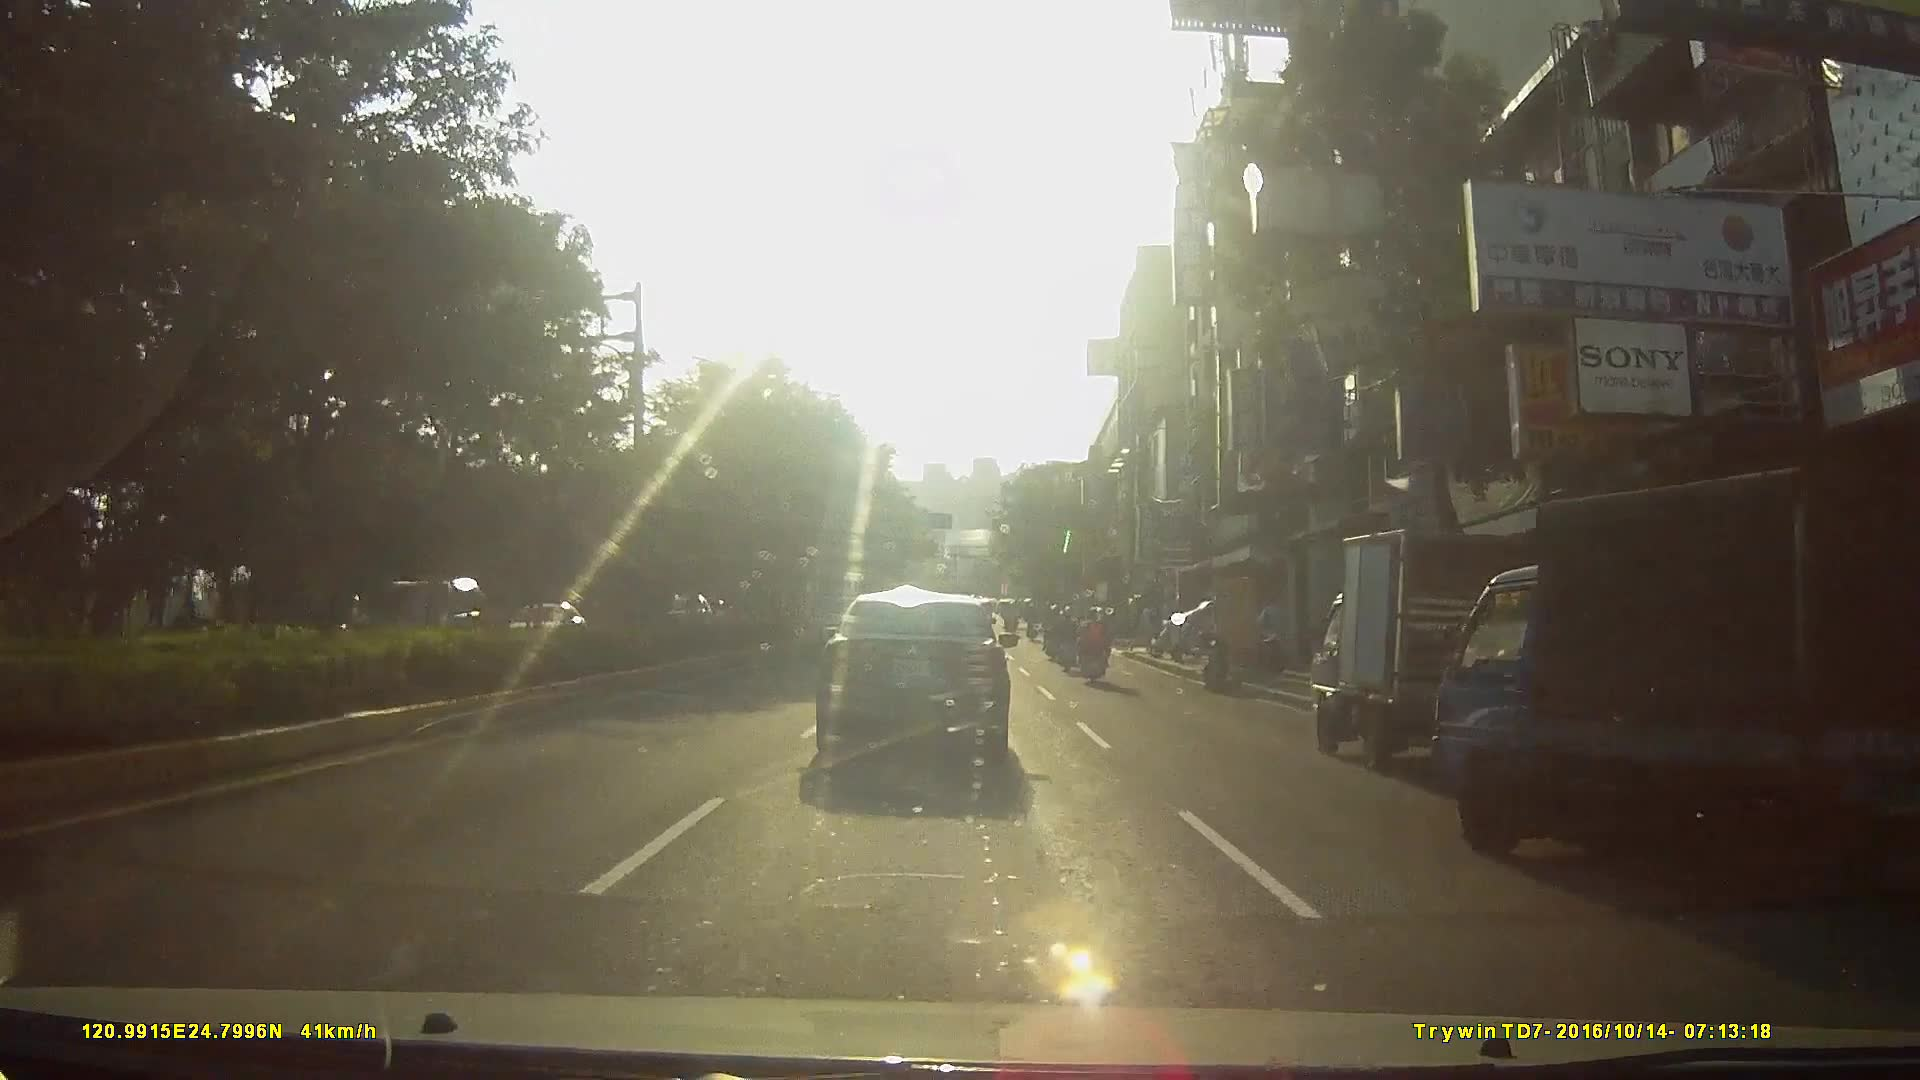rider: (1074, 606, 1115, 685), (1053, 605, 1081, 675), (1044, 606, 1064, 663)
vehicle: (1421, 457, 1920, 918), (1306, 515, 1590, 774), (811, 590, 1027, 787)
